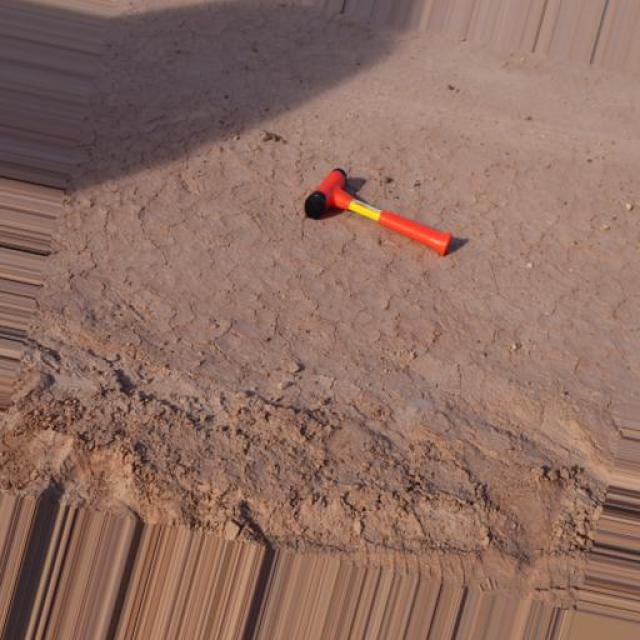mallet: (302, 166, 452, 258)
